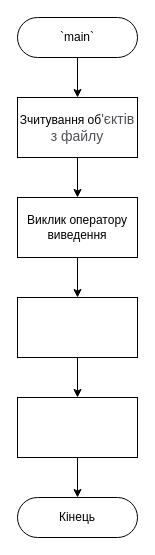
The diagram is 155 pixels wide and 555 high, and some of its shapes have lost their labels. Here are the shapes that lost their labels. From the top down, the centre of each, then its label:
At [77,327]: "Виклик оператору присвоювання".
At [77,427]: "Виведення списку в файл".
